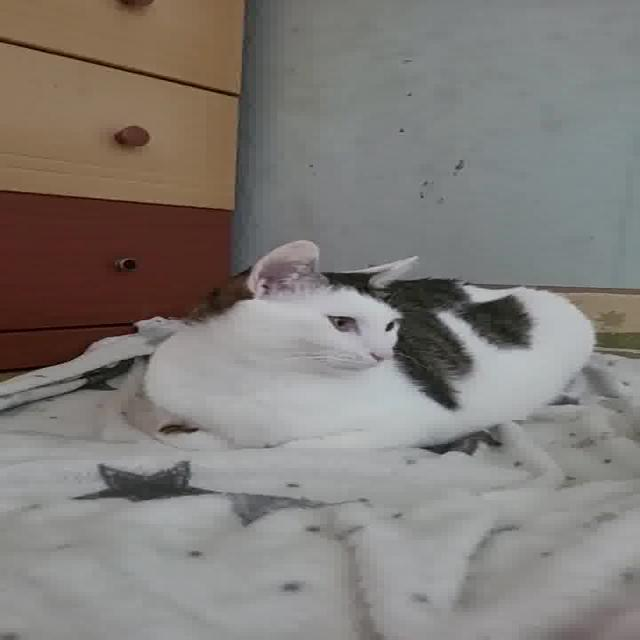cat: (118, 240, 602, 458)
